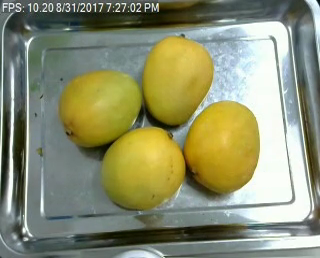Mango: (100, 128, 184, 210), (182, 102, 258, 191), (57, 70, 140, 148), (143, 38, 214, 128)
